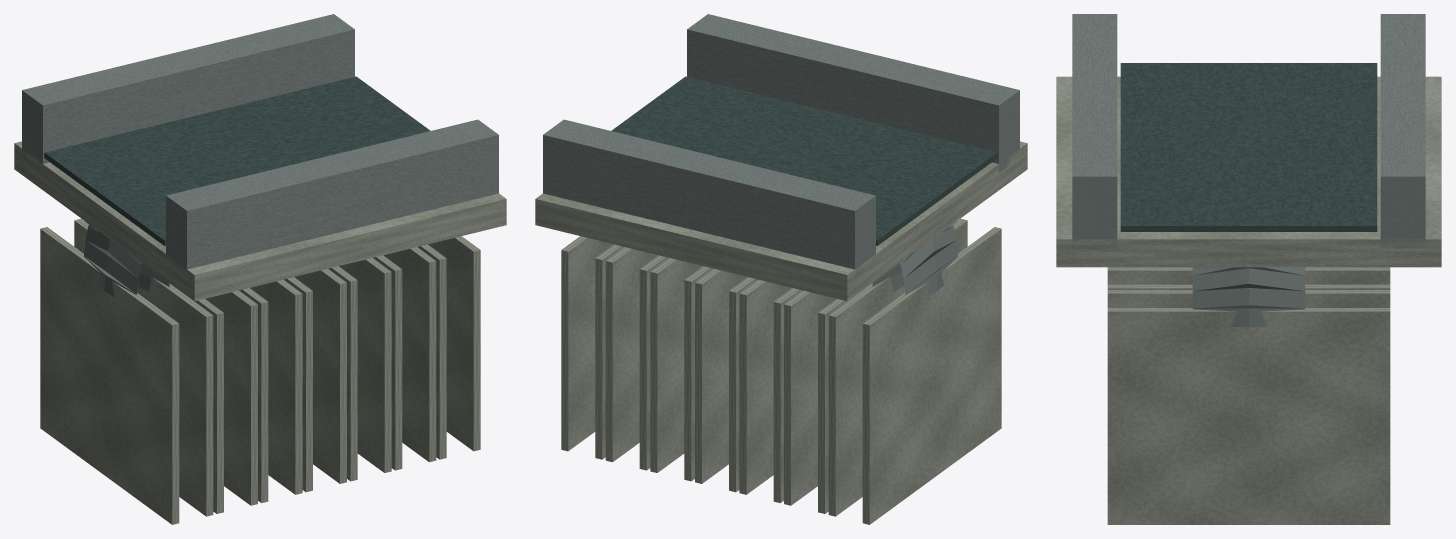
The model's file is grand_aqueduct_01.fbx.
3 views of the same model, side by side, from view 1: azimuth 30°, elevation 25°; view 2: azimuth 150°, elevation 25°; view 3: azimuth 270°, elevation 25° (orthographic). The views are drawn at different scales.
Parts seen in each view (by area): view 1: grand_aqueduct_01_LOD0; view 2: grand_aqueduct_01_LOD0; view 3: grand_aqueduct_01_LOD0.
Boxes of the visible parts, left/top/right/bottom form: grand_aqueduct_01_LOD0: left=14, top=14, right=506, bottom=524; grand_aqueduct_01_LOD0: left=535, top=14, right=1027, bottom=524; grand_aqueduct_01_LOD0: left=1056, top=14, right=1441, bottom=524.
Size of what is drawn, in the model's own units: 1 by 1 by 1.
